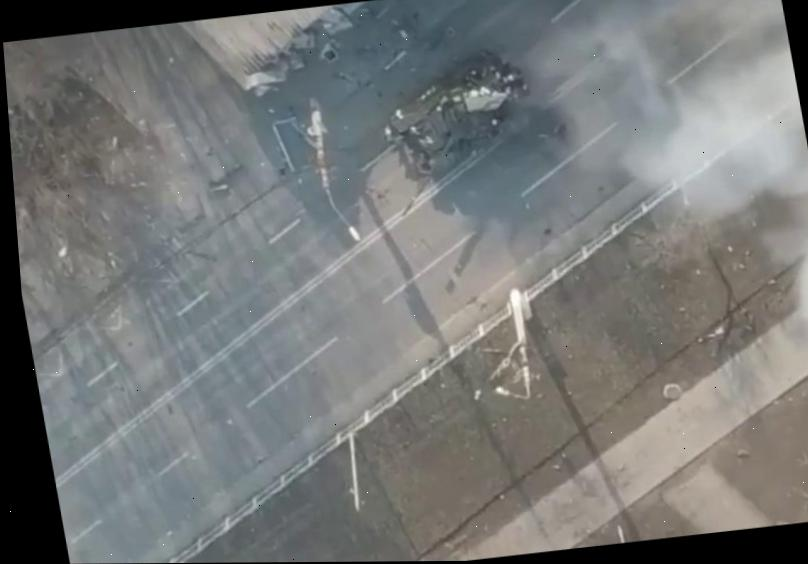tank: (368, 43, 549, 216)
